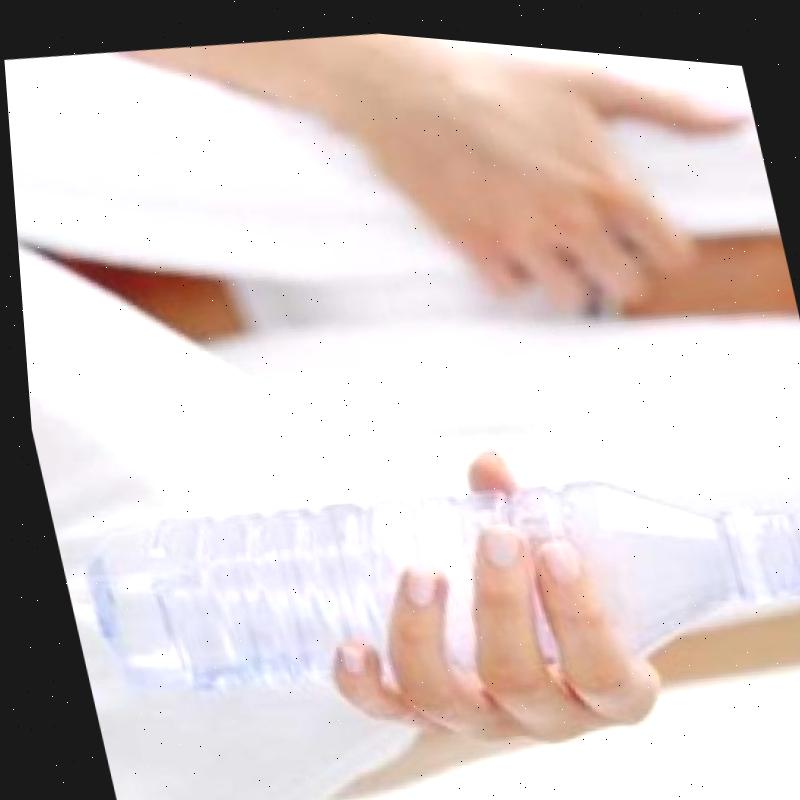botella: (55, 401, 800, 751)
